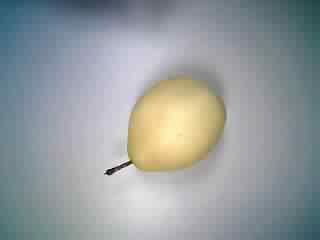pear: (97, 67, 230, 193)
